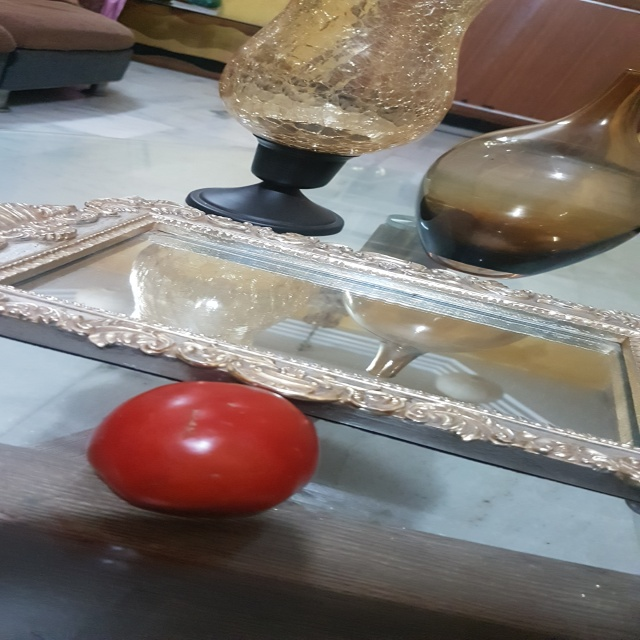tomato: (84, 371, 325, 520)
